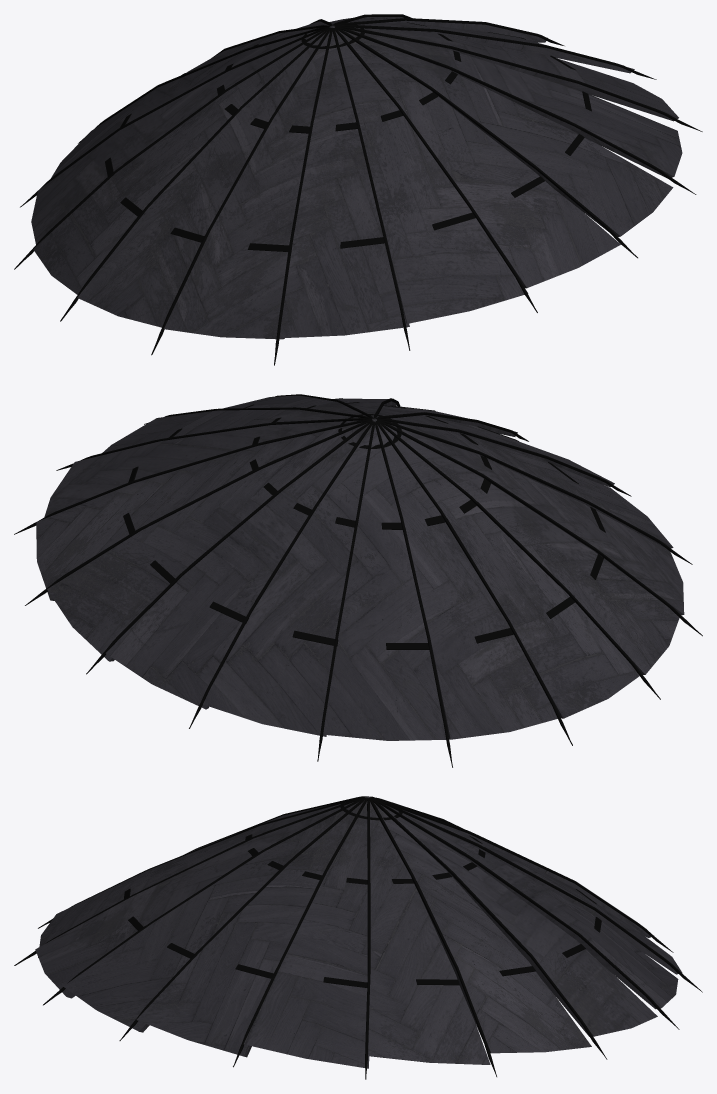
The model's file is samurai-hat.glb.
3 renders of one model, top to bottom at view 1: azimuth 30°, elevation 25°; view 2: azimuth 150°, elevation 25°; view 3: azimuth 270°, elevation 25°, orthographic. The views are drawn at different scales.
Parts seen in each view (by area): view 1: Object_2, Object_4; view 2: Object_2, Object_4; view 3: Object_2, Object_4.
Part boxes in pixels (x1,y1,x2,y2): Object_2: (31, 17, 682, 339); Object_4: (14, 14, 702, 365); Object_2: (36, 395, 684, 740); Object_4: (14, 394, 702, 767); Object_2: (35, 796, 682, 1068); Object_4: (14, 796, 702, 1079).
Bounding box in the file's own units: 2.67 × 0.946 × 2.69.
2 materials, 2 textured.
